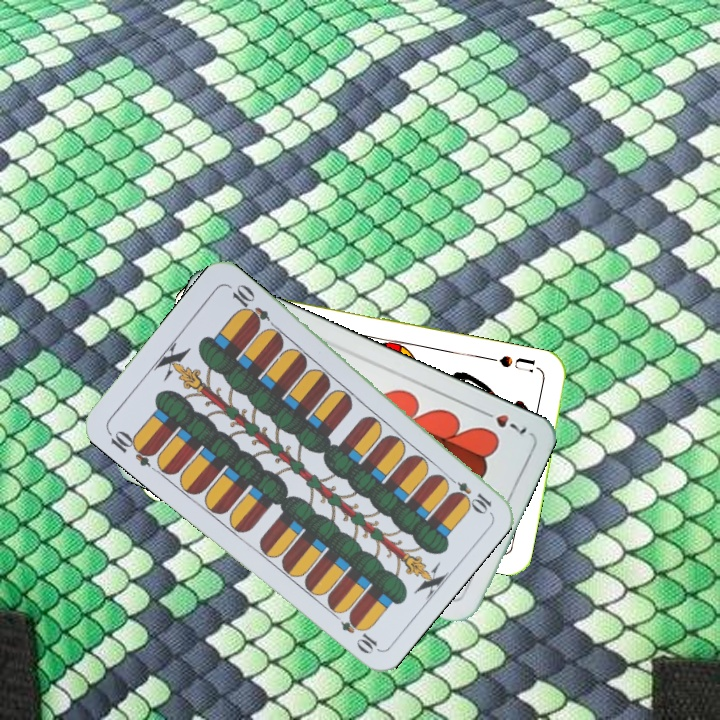E10: (441, 471, 495, 515), (103, 426, 158, 469)
H7: (475, 405, 530, 437)
SU: (484, 351, 538, 376)
